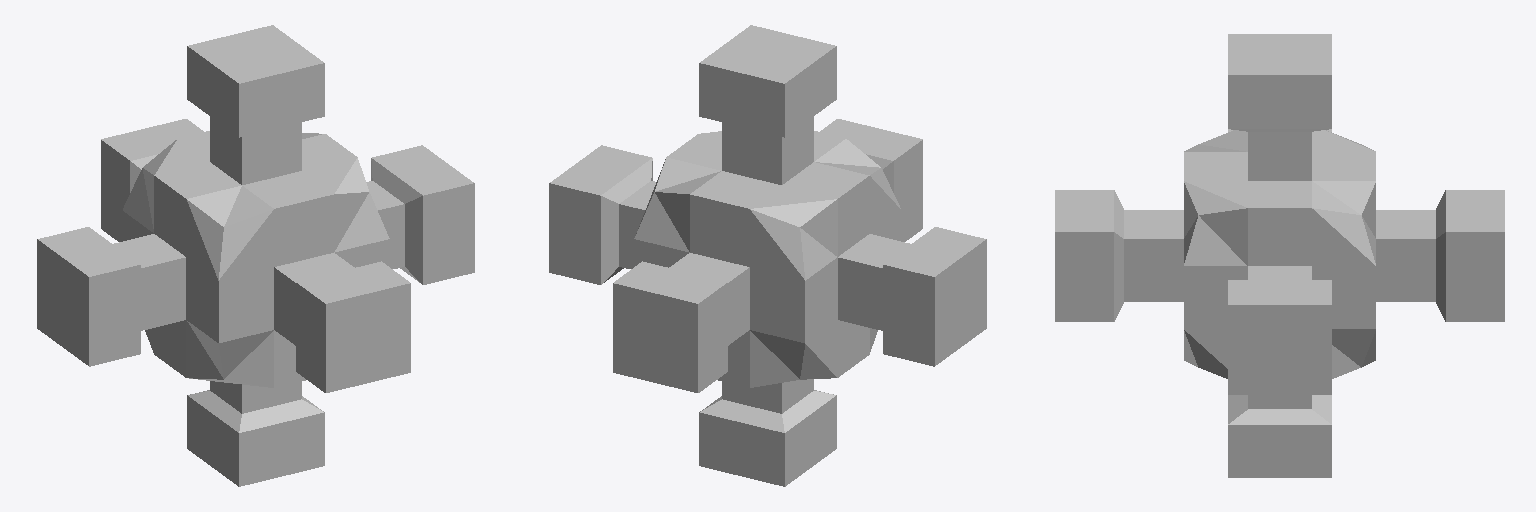
Rendered from boltsi.obj.
The picture shows the model from 3 angles: view 1: azimuth 30°, elevation 25°; view 2: azimuth 150°, elevation 25°; view 3: azimuth 270°, elevation 25°; orthographic projection.
Parts seen in each view (by area): view 1: Box001; view 2: Box001; view 3: Box001.
Boxes of the visible parts, box(x1,y1,x2,y2) form: Box001: box(37, 25, 474, 486); Box001: box(549, 25, 986, 486); Box001: box(1055, 34, 1504, 477).
Size of the model in its own units: 0.9 by 0.9 by 0.91.